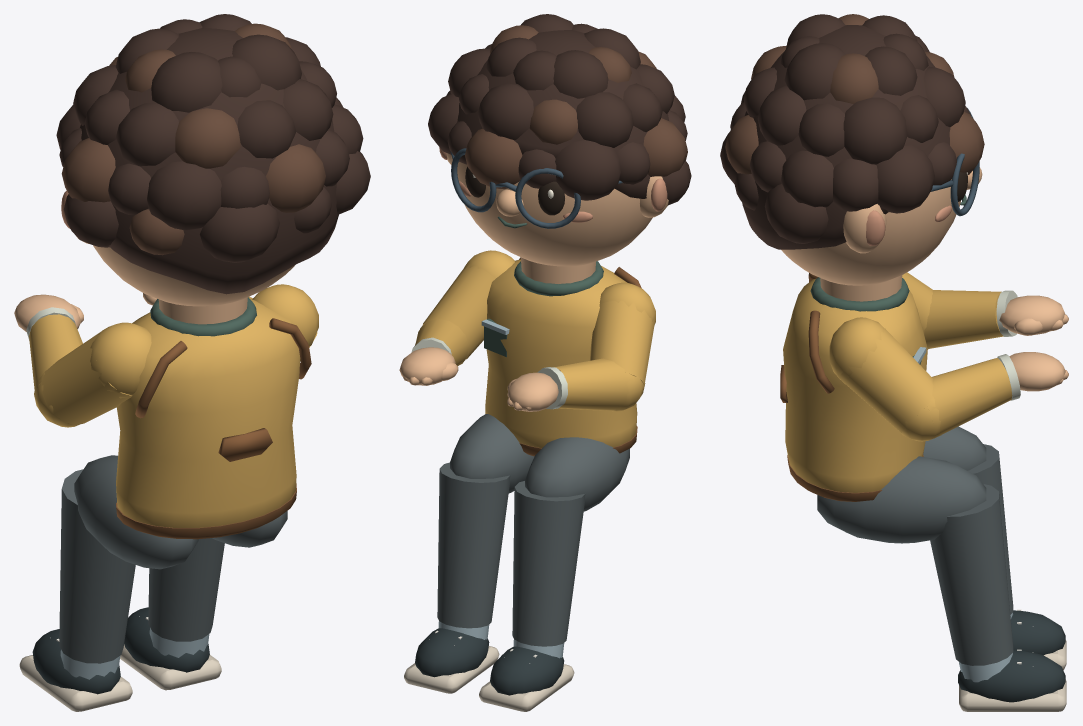
File: employee-3.glb
3 views of the same model, side by side, from view 1: azimuth 30°, elevation 25°; view 2: azimuth 150°, elevation 25°; view 3: azimuth 270°, elevation 25° (orthographic). The views are drawn at different scales.
Visible parts, largest first — view 1: Head, Body, Shin_L, Arm_L, Shin_R, Thigh_L, Foot_L, Foot_R, Forearm_L, Arm_R, Thigh_R; view 2: Head, Body, Shin_R, Shin_L, Thigh_L, Forearm_L, Arm_L, Foot_L, Foot_R, Thigh_R, Arm_R, Forearm_R; view 3: Head, Body, Shin_R, Thigh_R, Arm_R, Forearm_L, Forearm_R, Foot_R, Foot_L, Thigh_L, Shin_L, Arm_L.
Boxes of the visible parts, <box> form: Head: <box>56,14,370,306</box>; Body: <box>116,297,311,539</box>; Shin_L: <box>59,469,135,663</box>; Arm_L: <box>34,322,151,427</box>; Shin_R: <box>148,538,224,641</box>; Thigh_L: <box>74,455,198,569</box>; Foot_L: <box>19,629,132,711</box>; Foot_R: <box>120,607,221,690</box>; Forearm_L: <box>14,294,83,395</box>; Arm_R: <box>252,284,318,361</box>; Thigh_R: <box>212,511,287,547</box>; Head: <box>428,14,691,266</box>; Body: <box>481,257,641,456</box>; Shin_R: <box>437,462,510,628</box>; Shin_L: <box>512,481,585,646</box>; Thigh_L: <box>525,437,629,511</box>; Forearm_L: <box>507,358,634,411</box>; Arm_L: <box>590,282,655,411</box>; Foot_L: <box>479,639,574,711</box>; Foot_R: <box>404,621,499,693</box>; Thigh_R: <box>450,414,534,493</box>; Arm_R: <box>416,250,514,364</box>; Forearm_R: <box>399,318,469,385</box>; Head: <box>720,14,984,285</box>; Body: <box>780,273,927,501</box>; Shin_R: <box>930,484,1013,665</box>; Thigh_R: <box>817,456,986,543</box>; Arm_R: <box>829,317,941,441</box>; Forearm_L: <box>924,290,1068,348</box>; Forearm_R: <box>927,352,1068,438</box>; Foot_R: <box>958,649,1066,711</box>; Foot_L: <box>1010,609,1066,669</box>; Thigh_L: <box>923,426,986,470</box>; Shin_L: <box>968,444,1013,614</box>; Arm_L: <box>902,272,932,349</box>.
Size of the model in its own units: 0.7807 by 1.89 by 0.9151.
